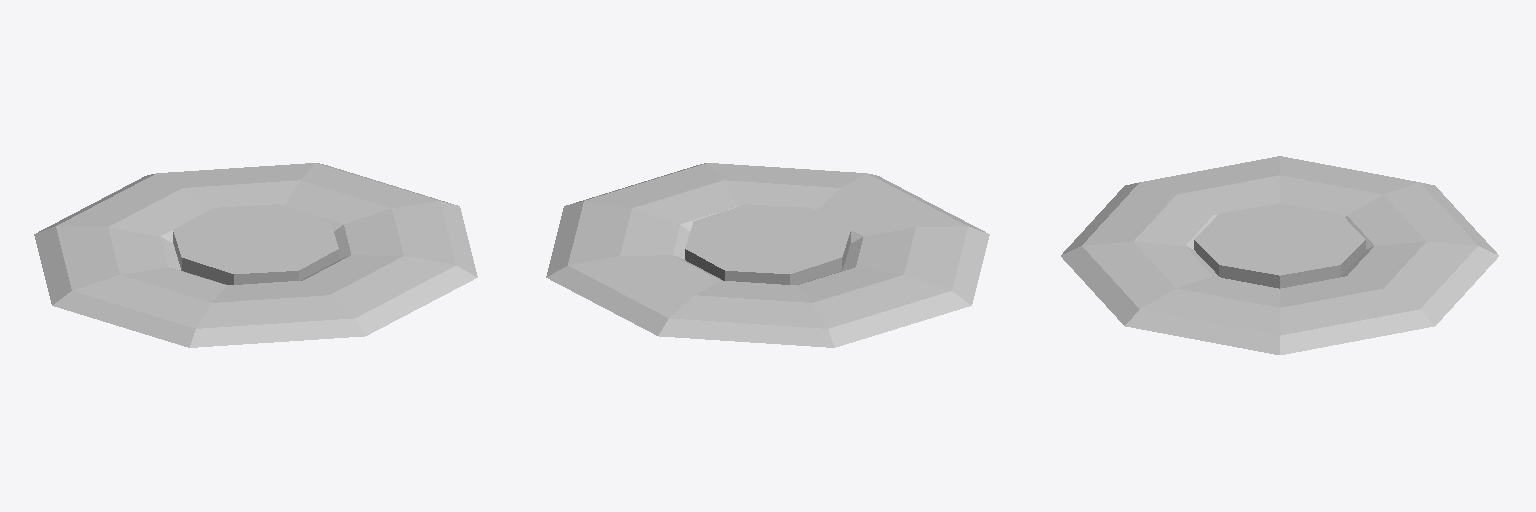
Rendered from BackLeftBurner.obj.
3 views of the same model, side by side, from view 1: azimuth 30°, elevation 25°; view 2: azimuth 150°, elevation 25°; view 3: azimuth 270°, elevation 25° (orthographic).
Visible parts, largest first — view 1: Back_Left_Burner_grp Stove_grp Back_Left_Burner_Outer_Element_ge, Back_Left_Burner_Inner_Element_geo Back_Left_Burner_grp Stove_gr; view 2: Back_Left_Burner_grp Stove_grp Back_Left_Burner_Outer_Element_ge, Back_Left_Burner_Inner_Element_geo Back_Left_Burner_grp Stove_gr; view 3: Back_Left_Burner_grp Stove_grp Back_Left_Burner_Outer_Element_ge, Back_Left_Burner_Inner_Element_geo Back_Left_Burner_grp Stove_gr.
Boxes of the visible parts, <box> form: Back_Left_Burner_grp Stove_grp Back_Left_Burner_Outer_Element_ge: <box>34,163,477,347</box>; Back_Left_Burner_Inner_Element_geo Back_Left_Burner_grp Stove_gr: <box>173,204,338,284</box>; Back_Left_Burner_grp Stove_grp Back_Left_Burner_Outer_Element_ge: <box>546,163,989,347</box>; Back_Left_Burner_Inner_Element_geo Back_Left_Burner_grp Stove_gr: <box>685,204,850,284</box>; Back_Left_Burner_grp Stove_grp Back_Left_Burner_Outer_Element_ge: <box>1061,156,1498,354</box>; Back_Left_Burner_Inner_Element_geo Back_Left_Burner_grp Stove_gr: <box>1194,203,1365,288</box>.
Size of the model in its own units: 38.37 by 3 by 35.8.